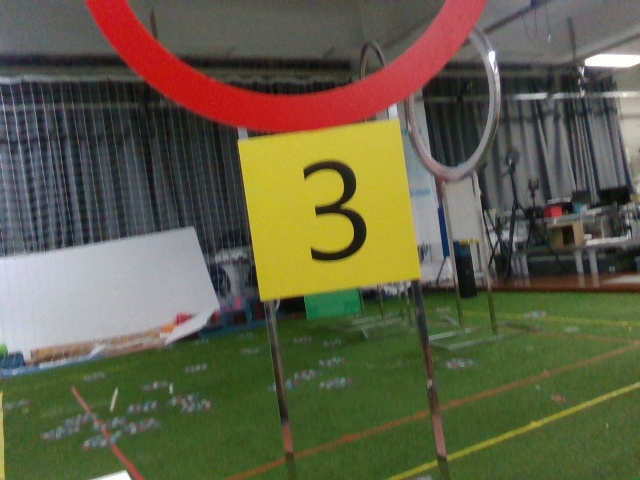target: (253, 131, 407, 279)
